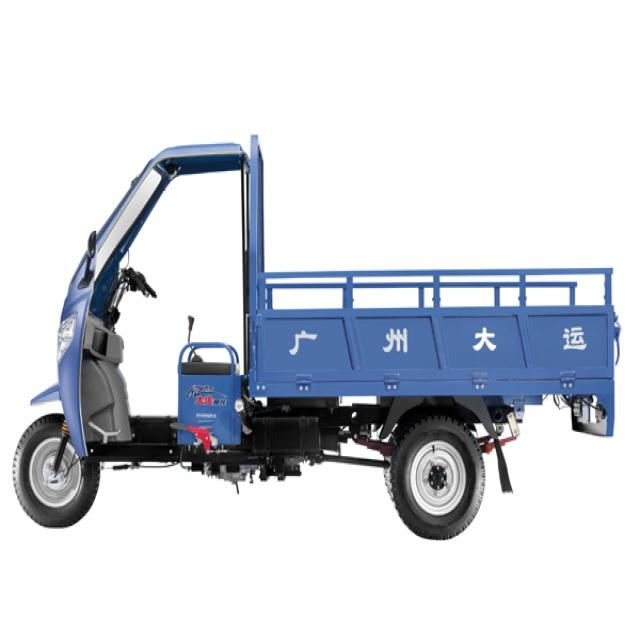tricycle: (9, 134, 620, 544)
